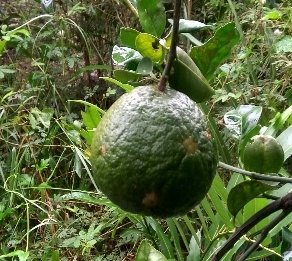Cam: (91, 83, 217, 220)
